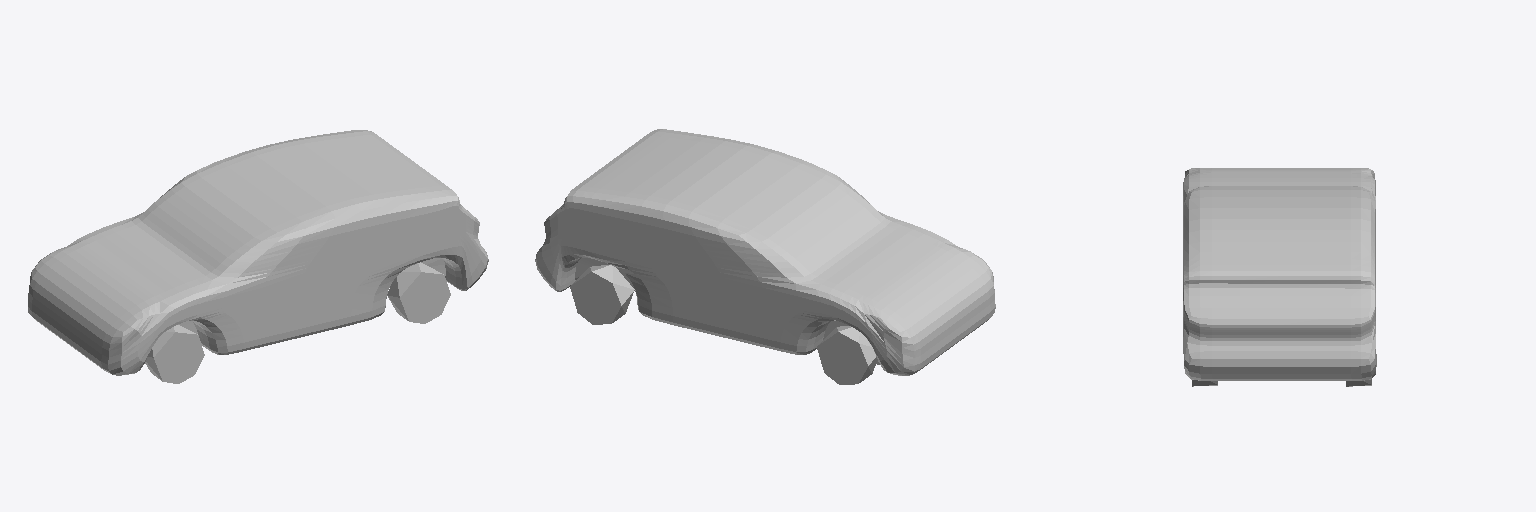
Rendered from car.obj.
3 views of the same model, side by side, from view 1: azimuth 30°, elevation 25°; view 2: azimuth 150°, elevation 25°; view 3: azimuth 270°, elevation 25° (orthographic).
Parts seen in each view (by area): view 1: Cylinder.003; view 2: Cylinder.003; view 3: Cylinder.003.
Boxes of the visible parts, x1,y1,x2,y2 form: Cylinder.003: [28, 130, 488, 383]; Cylinder.003: [535, 129, 995, 384]; Cylinder.003: [1183, 168, 1376, 386].
Bounding box in the file's own units: 3.02 × 1.02 × 1.34.